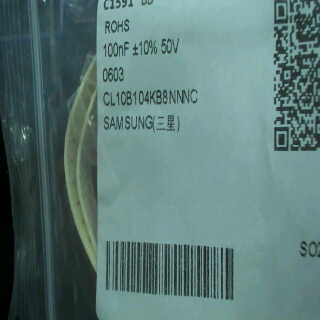100nF: (99, 34, 132, 61)
